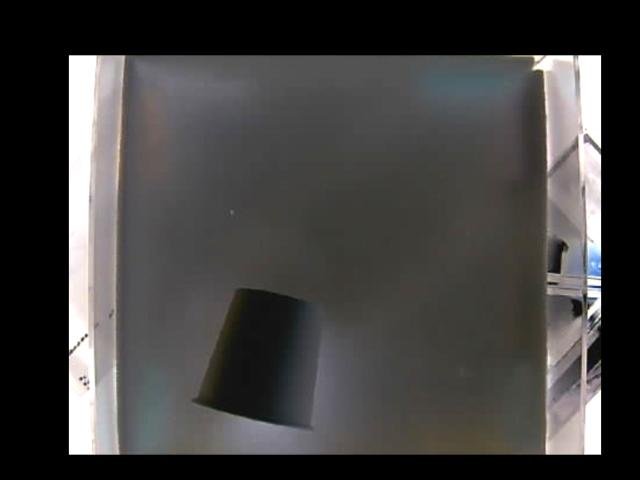Cup: (188, 287, 321, 429)
